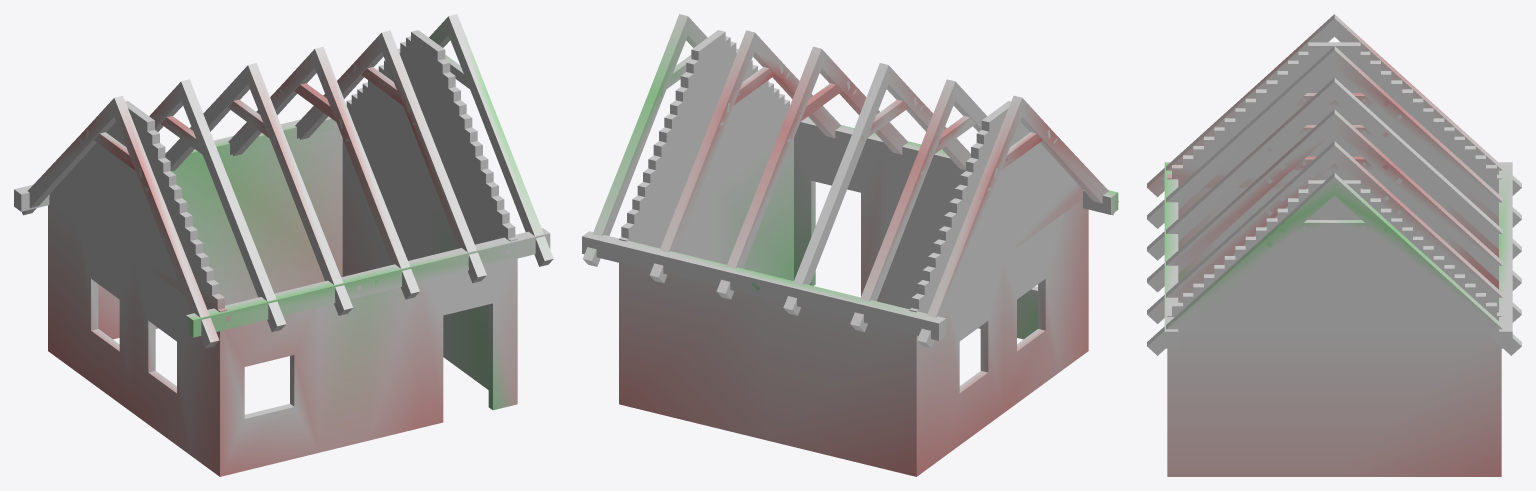
File: Structures_3.fbx
3 views of the same model, side by side, from view 1: azimuth 30°, elevation 25°; view 2: azimuth 150°, elevation 25°; view 3: azimuth 270°, elevation 25° (orthographic). The views are drawn at different scales.
Visible parts, largest first — view 1: Structures_3; view 2: Structures_3; view 3: Structures_3.
Boxes of the visible parts, x1,y1,x2,y2 form: Structures_3: (14, 14, 553, 476); Structures_3: (582, 14, 1118, 476); Structures_3: (1147, 14, 1521, 476).
Size of what is drawn, in the model's own units: 719 by 618 by 673.
